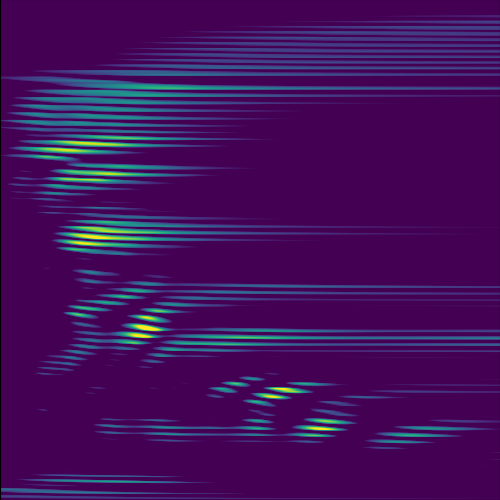semblance: (62, 219, 166, 255), (124, 303, 173, 348), (38, 132, 125, 157), (67, 166, 141, 191), (259, 378, 304, 404), (302, 413, 343, 435)
